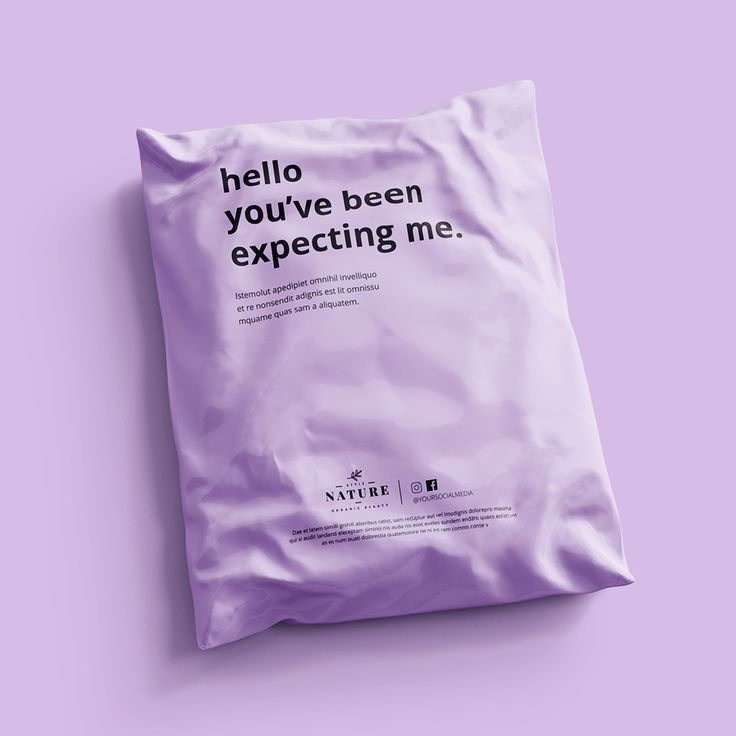Parcel: (137, 86, 630, 648)
